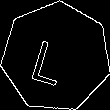L_N: (34, 28, 78, 86)
